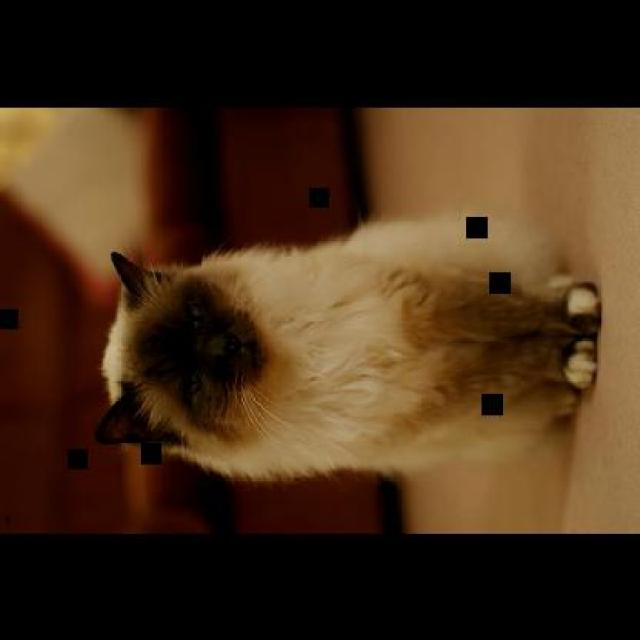unauthorized: (94, 209, 601, 485)
